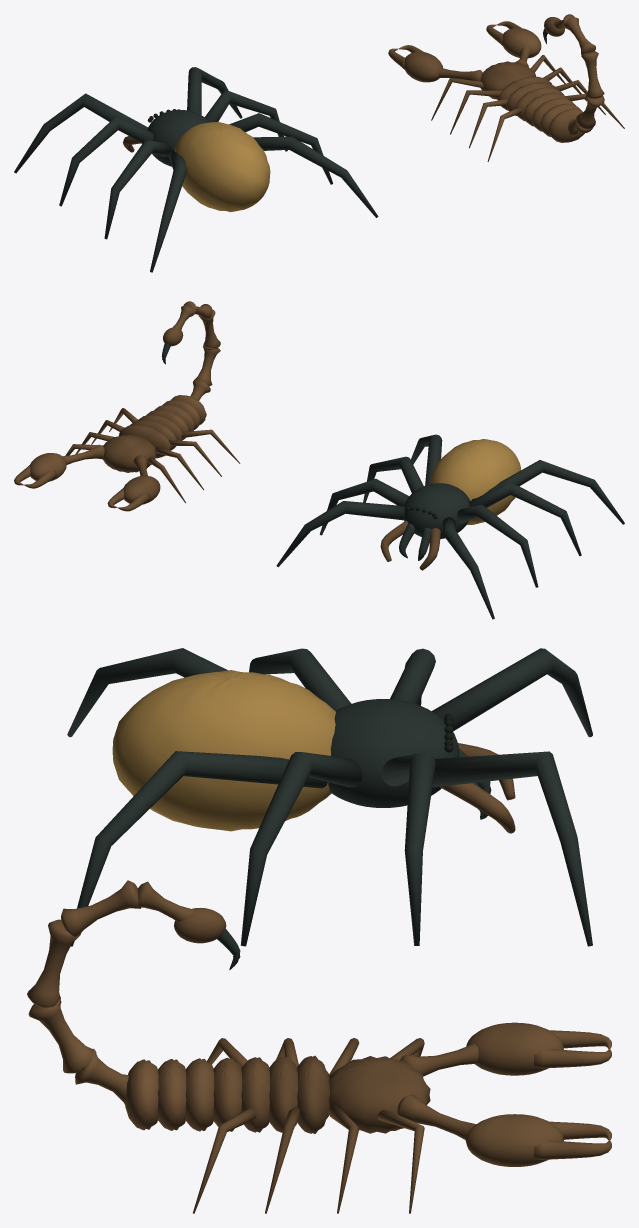
The picture shows the model from 3 angles, top to bottom: view 1: azimuth 30°, elevation 25°; view 2: azimuth 150°, elevation 25°; view 3: azimuth 270°, elevation 25°; orthographic projection. The views are drawn at different scales.
Parts seen in each view (by area): view 1: B13_SPEC_Bark_export, B13_SPEC_Chitin_export, B13_SPEC_Iridescent bronze_export; view 2: B13_SPEC_Chitin_export, B13_SPEC_Bark_export, B13_SPEC_Iridescent bronze_export; view 3: B13_SPEC_Bark_export, B13_SPEC_Chitin_export, B13_SPEC_Iridescent bronze_export.
Boxes of the visible parts, box(x1,y1,x2,y2) form: B13_SPEC_Bark_export: box(123, 14, 624, 161); B13_SPEC_Chitin_export: box(14, 28, 547, 272); B13_SPEC_Iridescent bronze_export: box(174, 122, 270, 212); B13_SPEC_Chitin_export: box(161, 343, 624, 619); B13_SPEC_Bark_export: box(14, 301, 440, 570); B13_SPEC_Iridescent bronze_export: box(430, 439, 520, 524); B13_SPEC_Bark_export: box(27, 743, 611, 1213); B13_SPEC_Chitin_export: box(67, 648, 592, 970); B13_SPEC_Iridescent bronze_export: box(112, 670, 336, 831).
Bounding box in the file's own units: 2.39 × 0.6331 × 1.25.
